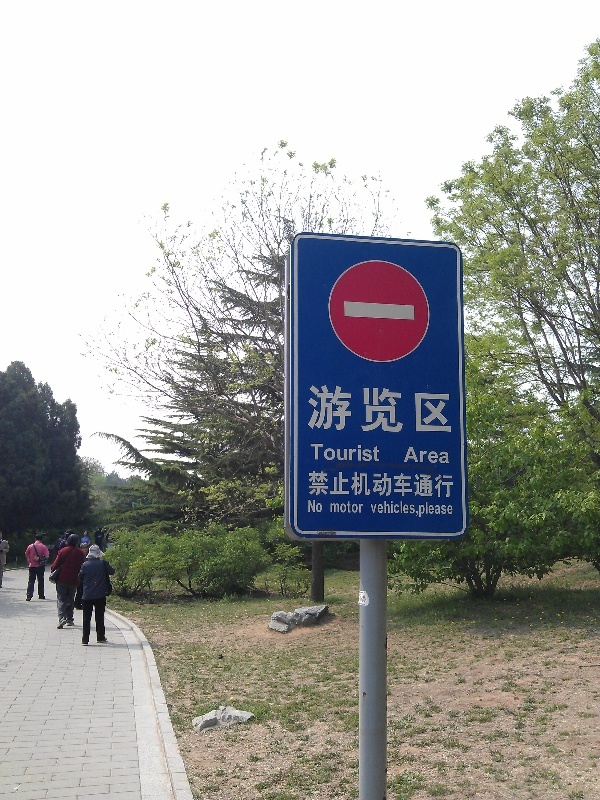text: (321, 385, 336, 434), (337, 385, 352, 434), (353, 385, 368, 434), (369, 385, 384, 434), (385, 385, 400, 434), (401, 385, 416, 434), (417, 385, 432, 434), (433, 385, 448, 434), (308, 385, 320, 434), (321, 471, 336, 498), (337, 471, 352, 498), (353, 471, 368, 498), (369, 471, 384, 498), (385, 471, 400, 498), (401, 471, 416, 498), (417, 471, 432, 498), (433, 471, 448, 498), (321, 443, 336, 463), (337, 443, 352, 463), (353, 443, 368, 463), (309, 471, 320, 498), (417, 446, 432, 464), (433, 446, 448, 464), (369, 443, 382, 463), (433, 501, 448, 518), (385, 501, 400, 517), (401, 501, 416, 517), (403, 446, 416, 464), (370, 501, 384, 517), (419, 501, 432, 518), (310, 443, 320, 463), (449, 385, 453, 434), (337, 501, 352, 514), (308, 500, 320, 514), (353, 501, 364, 514), (449, 471, 454, 498), (449, 501, 453, 518), (331, 501, 336, 514), (321, 500, 324, 514), (417, 501, 419, 517), (449, 446, 450, 464)
